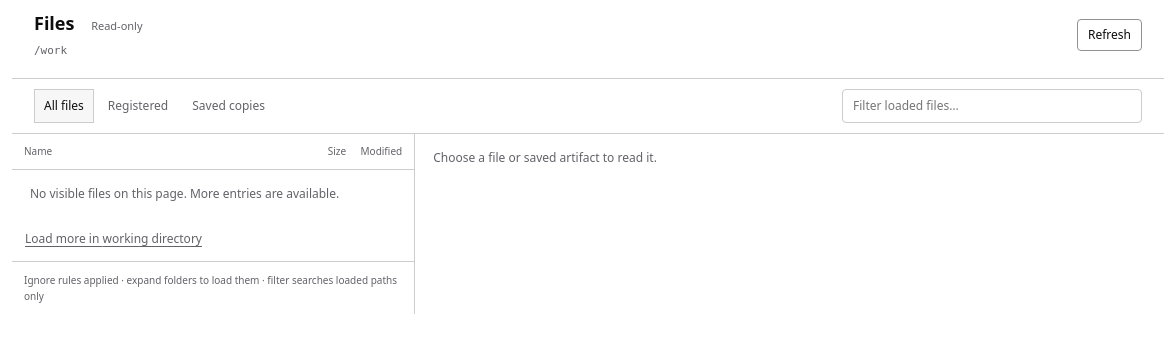
keeps load more on an empty ignored page and drops old entries after a cursor conflict
What coordinates should you click on to do the following:
click the button "Load more in working directory"
I would click on:
 (64, 239)
Its box is [12, 217, 414, 261].
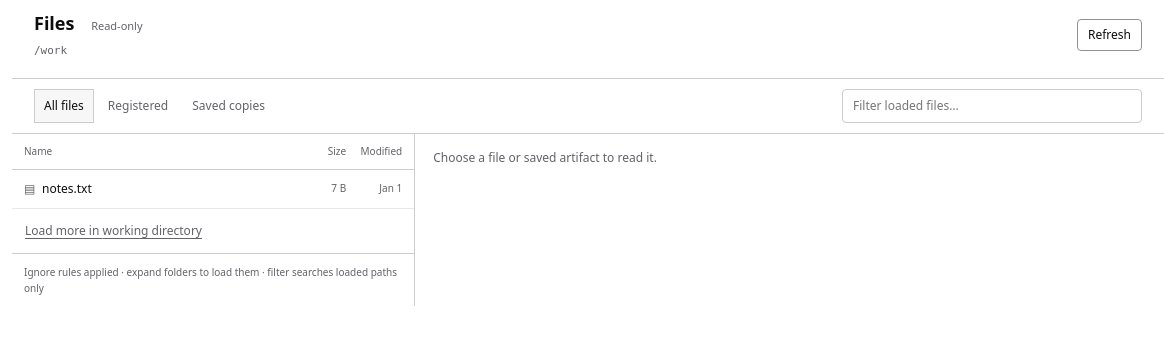
Now the button "▤ notes.txt 7 B Jan 1" is shown, box [12, 170, 414, 208]
What coordinates should you click on to do the following:
click the button "Load more in working directory"
I would click on:
 (64, 230)
Its box is [12, 208, 414, 252].
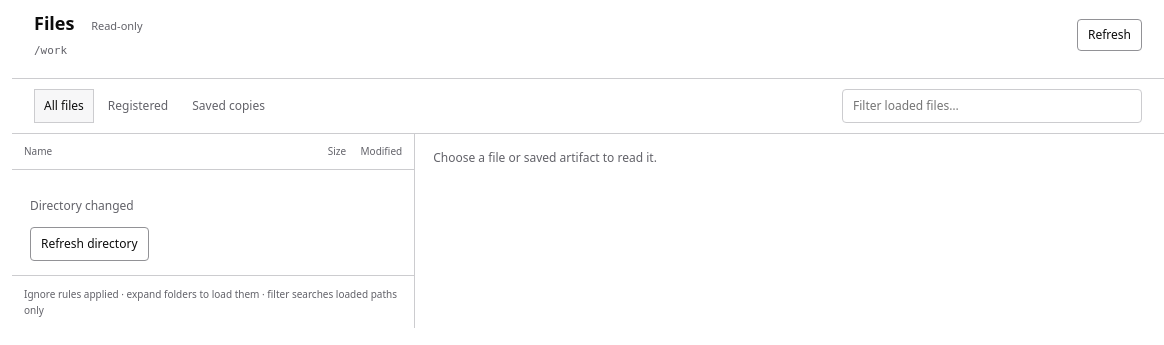
Now the text "Directory changed" is shown, box [30, 196, 134, 214]
Now the button "notes.txt" is gone
Now the button "Load more" is gone
